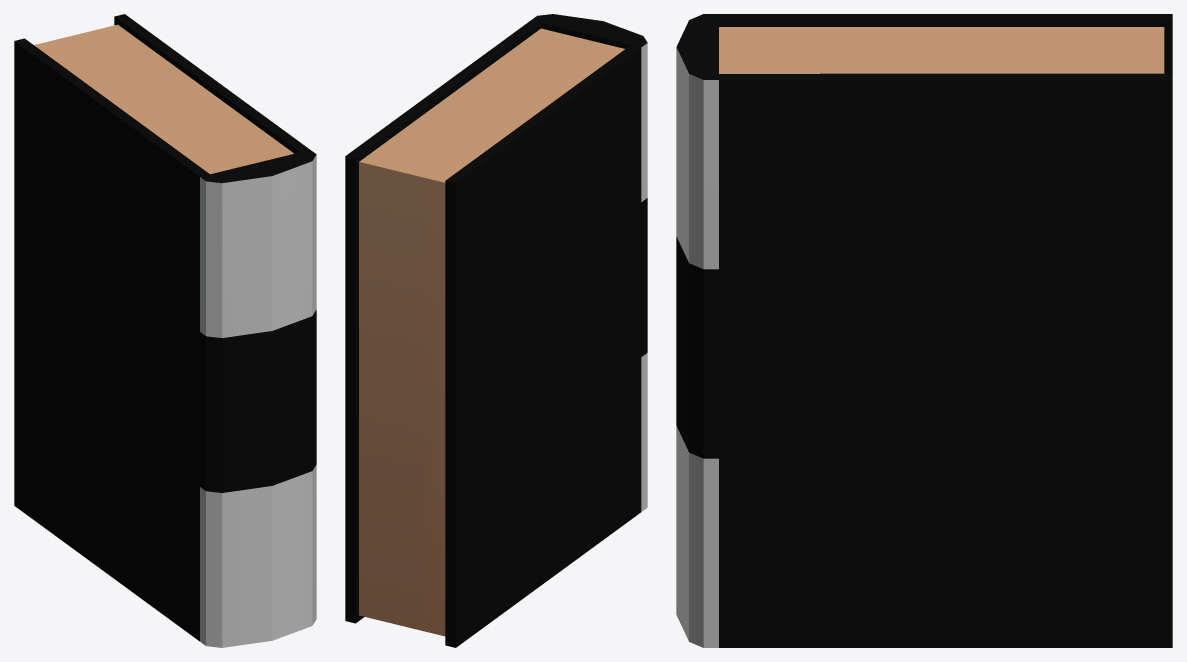
File: Book_black_D.fbx
The picture shows the model from 3 angles, left to right: view 1: azimuth 30°, elevation 25°; view 2: azimuth 150°, elevation 25°; view 3: azimuth 270°, elevation 25°; orthographic projection. The views are drawn at different scales.
Visible parts, largest first — view 1: Book_black_D; view 2: Book_black_D; view 3: Book_black_D.
Boxes of the visible parts, x1,y1,x2,y2 form: Book_black_D: [14, 14, 316, 647]; Book_black_D: [345, 14, 647, 647]; Book_black_D: [676, 14, 1172, 647].
Size of the model in its own units: 6.32 by 25.38 by 20.08.
